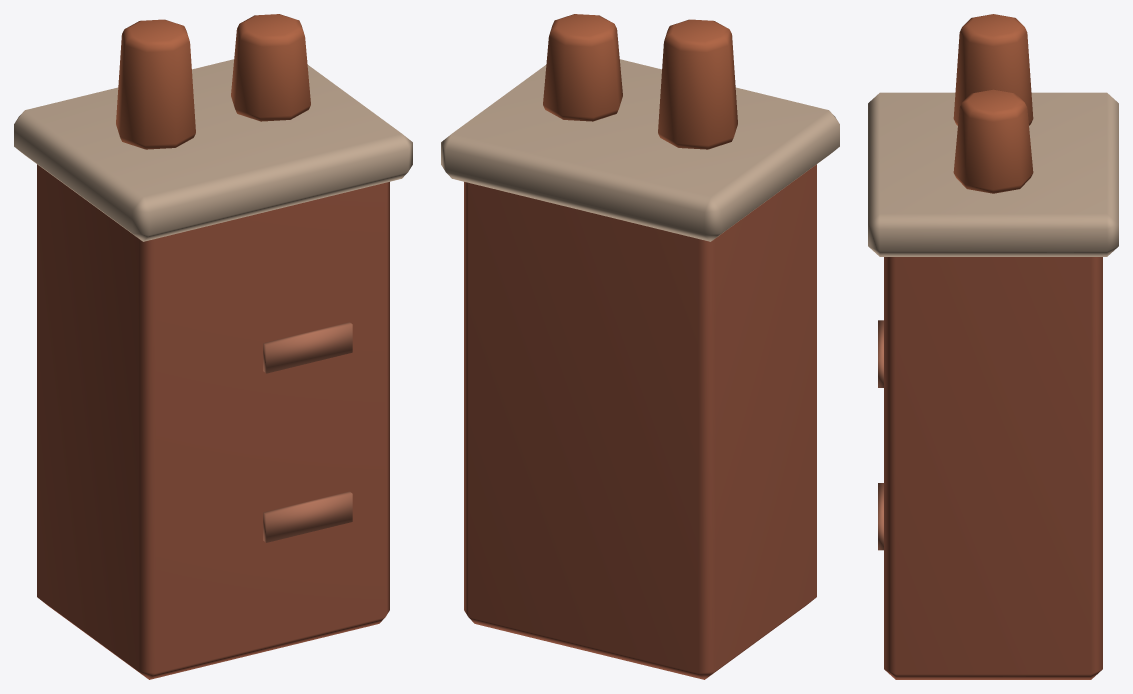
The model's file is chimney.glb.
The picture shows the model from 3 angles, left to right: view 1: azimuth 30°, elevation 25°; view 2: azimuth 150°, elevation 25°; view 3: azimuth 270°, elevation 25°; orthographic projection. The views are drawn at different scales.
Parts seen in each view (by area): view 1: chimney; view 2: chimney; view 3: chimney.
Part boxes in pixels (bbox=[...]): chimney: bbox=[14, 14, 412, 679]; chimney: bbox=[441, 14, 839, 679]; chimney: bbox=[868, 14, 1118, 679].
Bounding box in the file's own units: 0.78 × 1.59 × 0.63.
